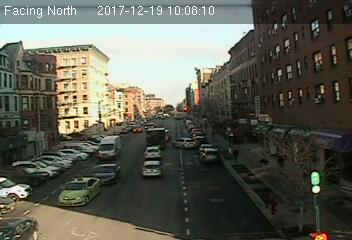car: (56, 176, 100, 206), (93, 164, 122, 186), (140, 160, 164, 178), (201, 147, 220, 164), (172, 136, 195, 149), (145, 147, 161, 159)
truck: (99, 135, 121, 161)
ups: (145, 128, 166, 149)
